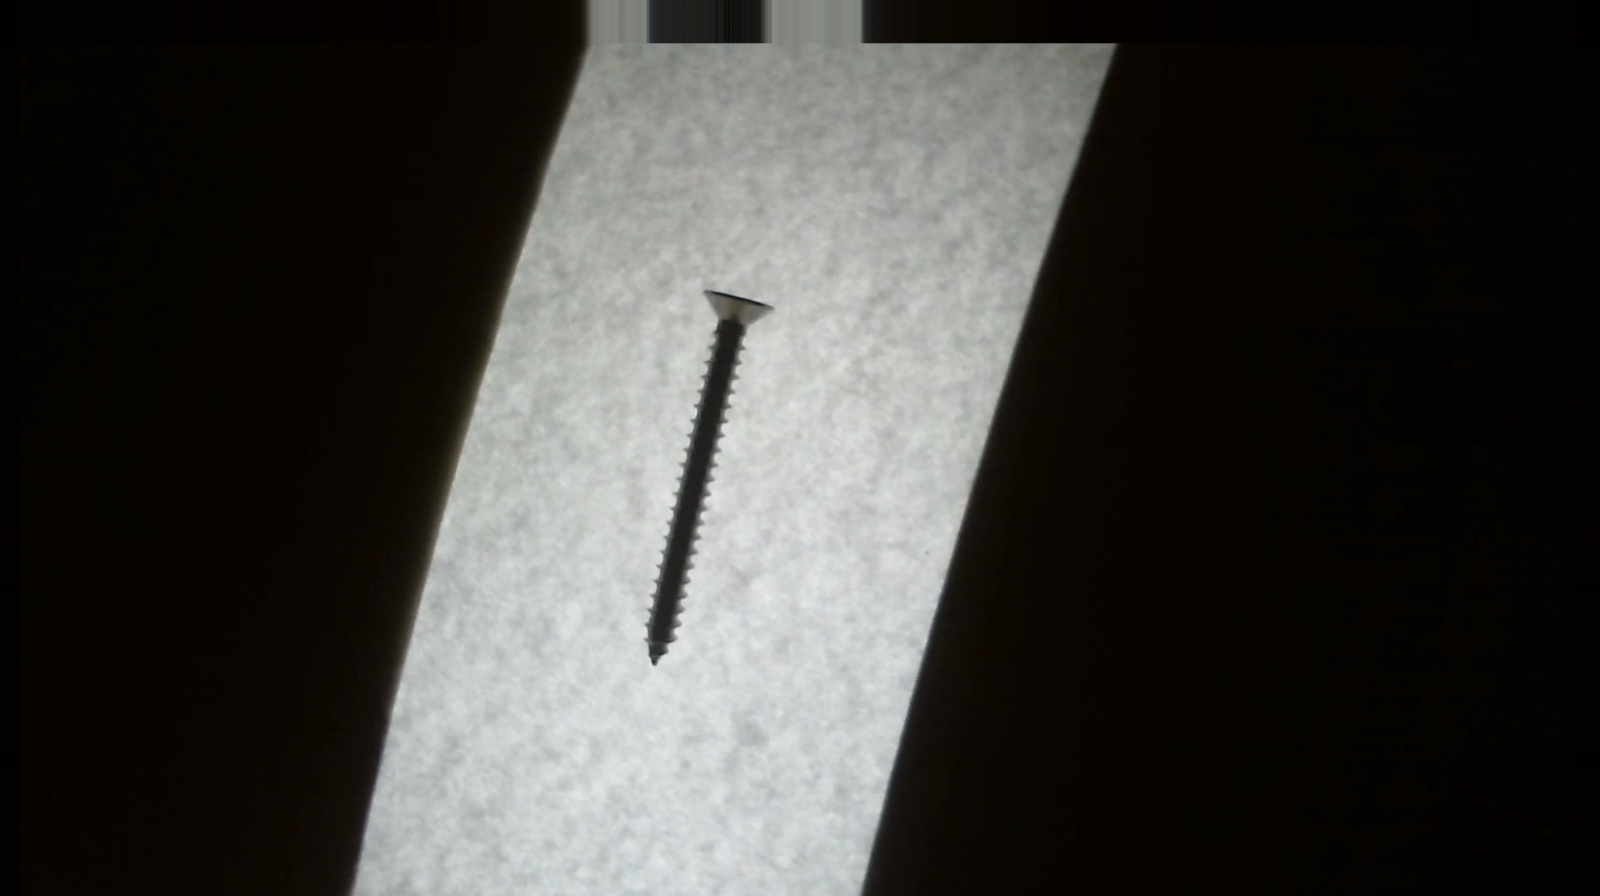S002: (621, 283, 795, 676)
